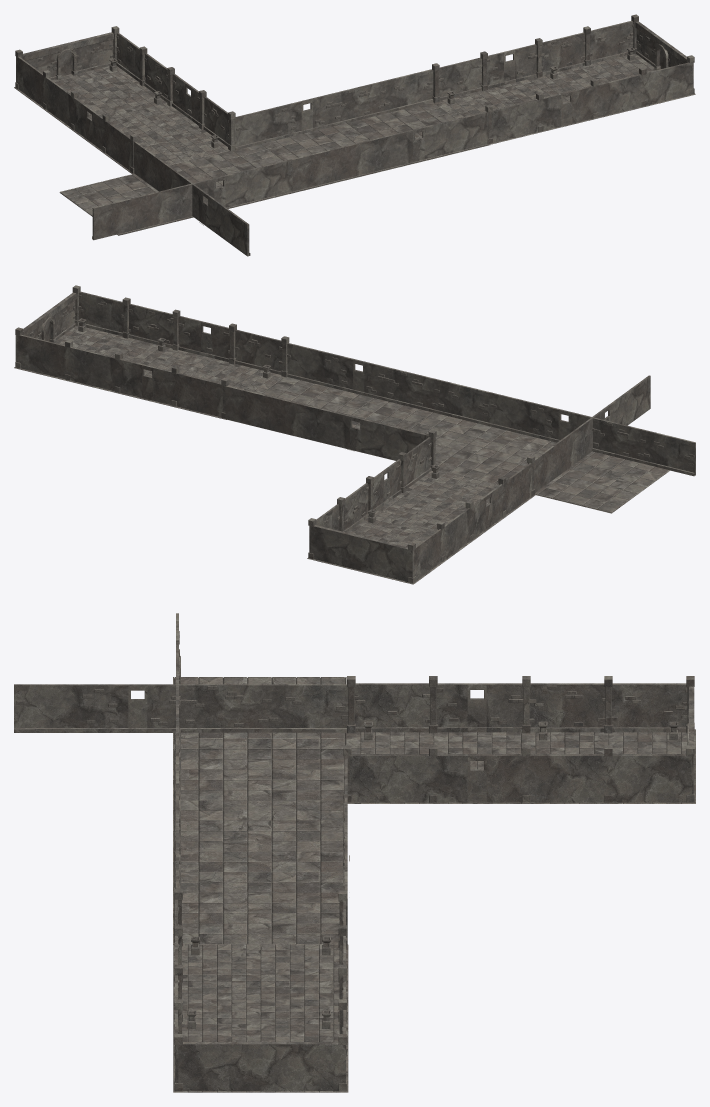
File: noroof.glb
3 renders of one model, top to bottom at view 1: azimuth 30°, elevation 25°; view 2: azimuth 150°, elevation 25°; view 3: azimuth 270°, elevation 25°, orthographic. The views are drawn at different scales.
Visible parts, largest first — view 1: Object_6.010; view 2: Object_6.010; view 3: Object_6.010.
Part boxes in pixels (x1,y1,x2,y2): Object_6.010: (14,14,695,256); Object_6.010: (14,285,695,584); Object_6.010: (14,613,695,1092).
Size of the model in its own units: 140 by 8.33 by 93.14.
Materials: 3 (3 with a texture image).
